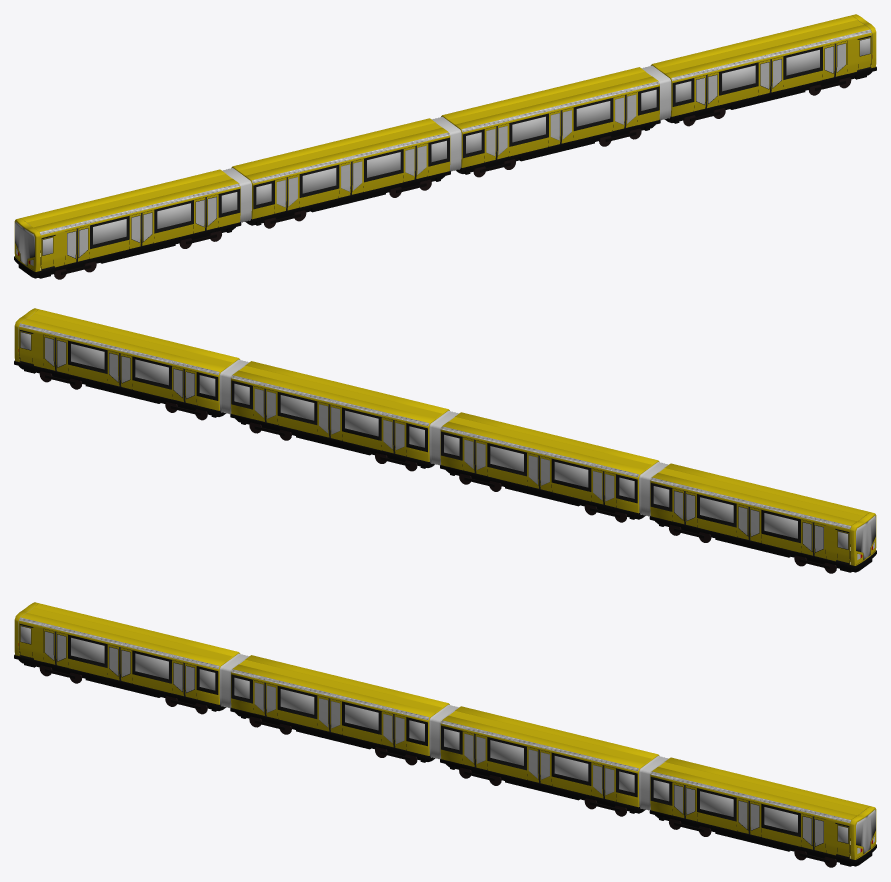
3 views of the same model, one above another, from view 1: azimuth 30°, elevation 25°; view 2: azimuth 150°, elevation 25°; view 3: azimuth 330°, elevation 25° (orthographic).
Parts seen in each view (by area): view 1: HK_wagon_B_003, HK_wagon_B_004, HK_wagon_B_001, HK_wagon_B_002, HK_wagon_B_003_lines, HK_wagon_B_004_lines, HK_wagon_B_002_lines, HK_wagon_B_001_lines, HK_wagon_B_connect_003, HK_wagon_B_connect_001, HK_wagon_B_connect_002; view 2: HK_wagon_B_003, HK_wagon_B_004, HK_wagon_B_001, HK_wagon_B_002, HK_wagon_B_003_lines, HK_wagon_B_004_lines, HK_wagon_B_002_lines, HK_wagon_B_001_lines, HK_wagon_B_connect_003, HK_wagon_B_connect_001, HK_wagon_B_connect_002; view 3: HK_wagon_B_004, HK_wagon_B_003, HK_wagon_B_002, HK_wagon_B_001, HK_wagon_B_003_lines, HK_wagon_B_004_lines, HK_wagon_B_001_lines, HK_wagon_B_002_lines, HK_wagon_B_connect_001, HK_wagon_B_connect_002, HK_wagon_B_connect_003.
Boxes of the visible parts, x1,y1,x2,y2 form: HK_wagon_B_003: (14, 169, 241, 279); HK_wagon_B_004: (650, 14, 876, 126); HK_wagon_B_001: (231, 118, 450, 228); HK_wagon_B_002: (441, 67, 660, 177); HK_wagon_B_003_lines: (20, 183, 239, 235); HK_wagon_B_004_lines: (671, 29, 871, 80); HK_wagon_B_002_lines: (461, 81, 659, 132); HK_wagon_B_001_lines: (252, 132, 449, 183); HK_wagon_B_connect_003: (641, 65, 671, 120); HK_wagon_B_connect_001: (222, 168, 251, 222); HK_wagon_B_connect_002: (432, 116, 461, 171); HK_wagon_B_003: (649, 463, 876, 573); HK_wagon_B_004: (14, 308, 240, 420); HK_wagon_B_001: (440, 412, 659, 522); HK_wagon_B_002: (230, 361, 449, 471); HK_wagon_B_003_lines: (651, 477, 851, 529); HK_wagon_B_004_lines: (19, 323, 219, 374); HK_wagon_B_002_lines: (231, 375, 429, 426); HK_wagon_B_001_lines: (441, 426, 638, 477); HK_wagon_B_connect_003: (219, 359, 249, 414); HK_wagon_B_connect_001: (639, 462, 668, 516); HK_wagon_B_connect_002: (429, 410, 458, 465); HK_wagon_B_004: (649, 757, 876, 867); HK_wagon_B_003: (14, 602, 240, 714); HK_wagon_B_002: (440, 706, 659, 816); HK_wagon_B_001: (230, 655, 449, 765); HK_wagon_B_003_lines: (19, 617, 219, 668); HK_wagon_B_004_lines: (651, 771, 851, 823); HK_wagon_B_001_lines: (231, 669, 429, 720); HK_wagon_B_002_lines: (441, 720, 638, 771); HK_wagon_B_connect_001: (219, 653, 249, 708); HK_wagon_B_connect_002: (429, 704, 458, 759); HK_wagon_B_connect_003: (639, 756, 668, 810).
Size of the model in its own units: 5094 by 317 by 231.
